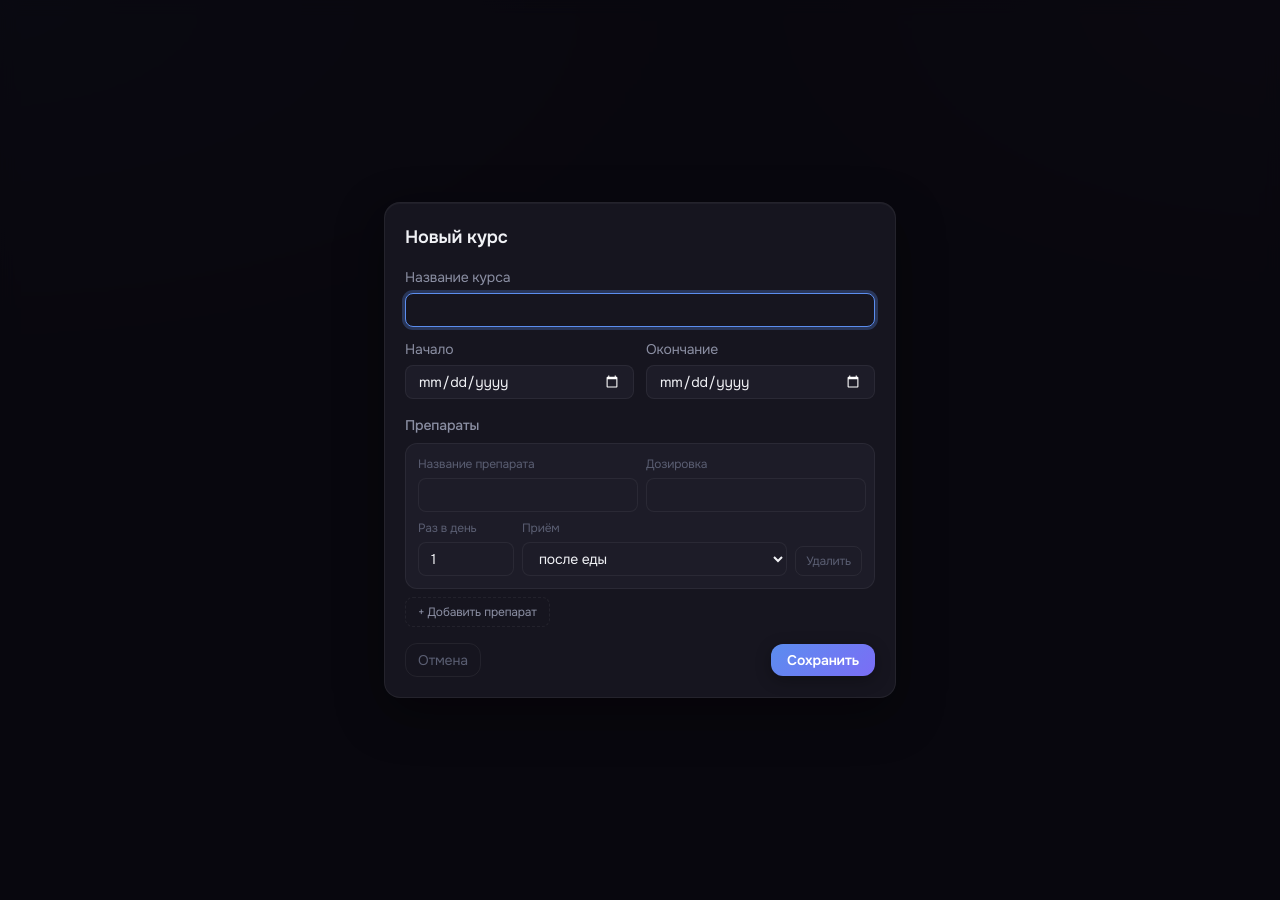
курс без препаратов отклоняется
This screenshot has width=1280, height=900.
Type "Курс" into the field labelled "Название курса" at (640, 310), box [405,293,875,327]
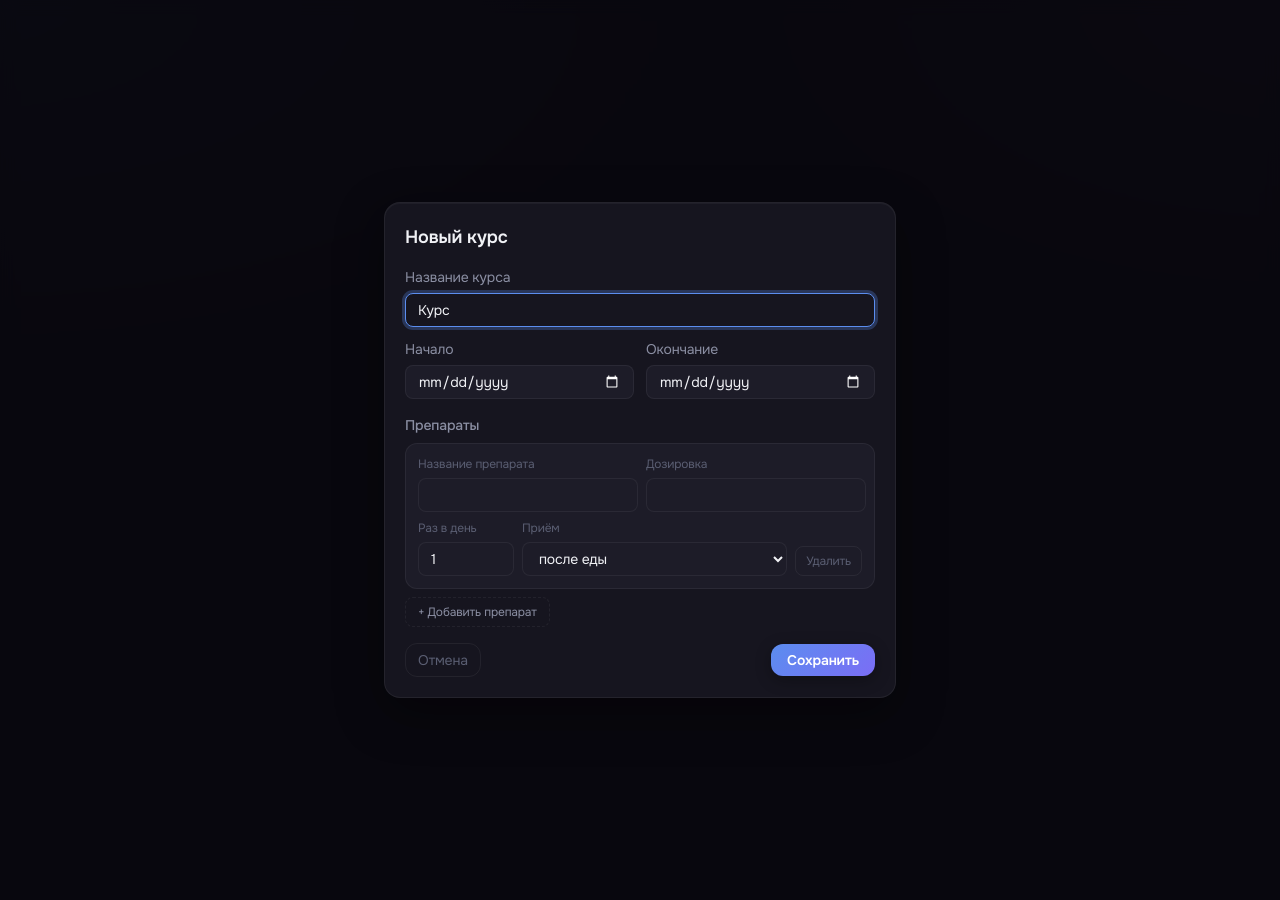
Type "2026-10-01" into the date field labelled "Начало" at (520, 382), box [405,365,634,399]
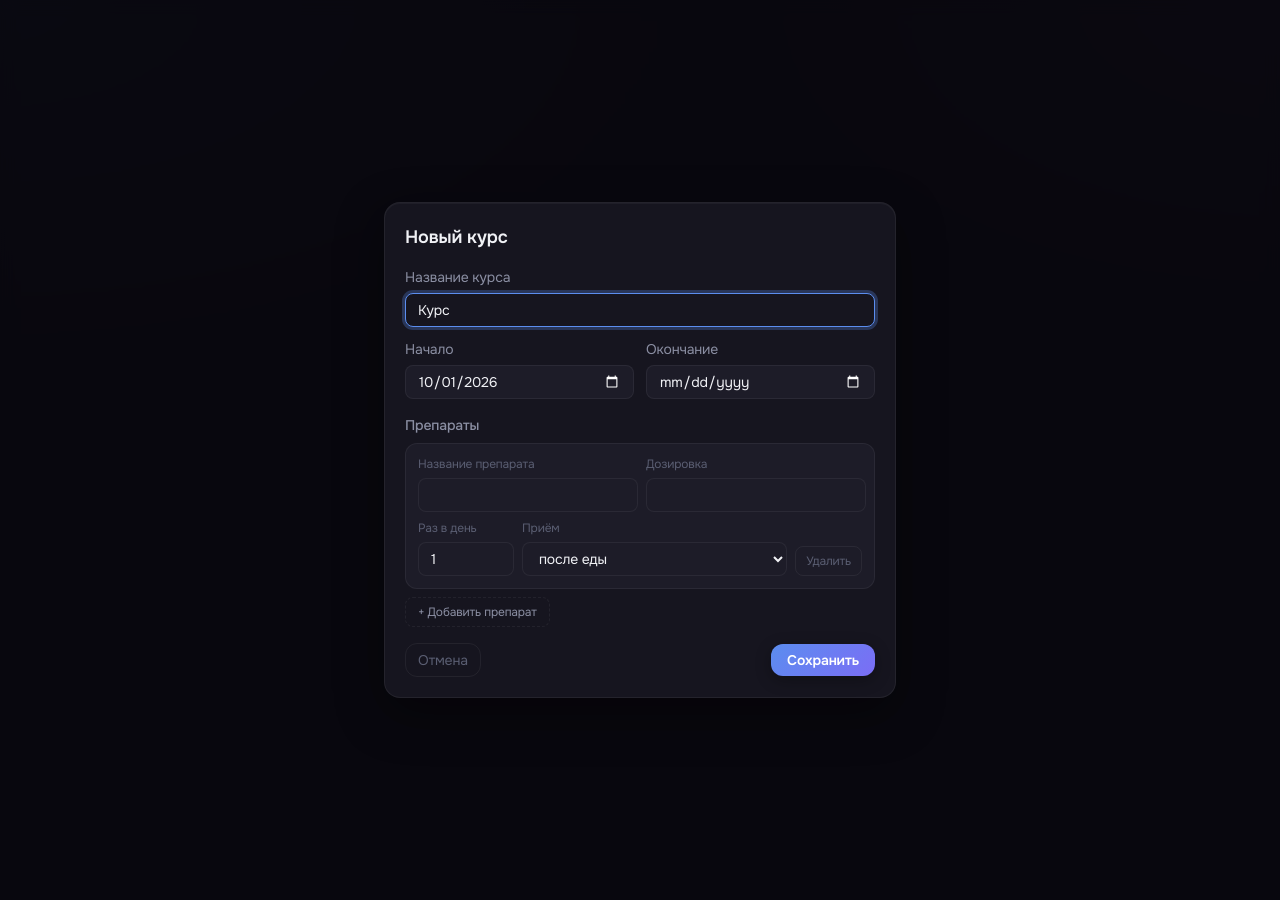
Type "2026-10-07" into the date field labelled "Окончание" at (760, 382), box [646,365,875,399]
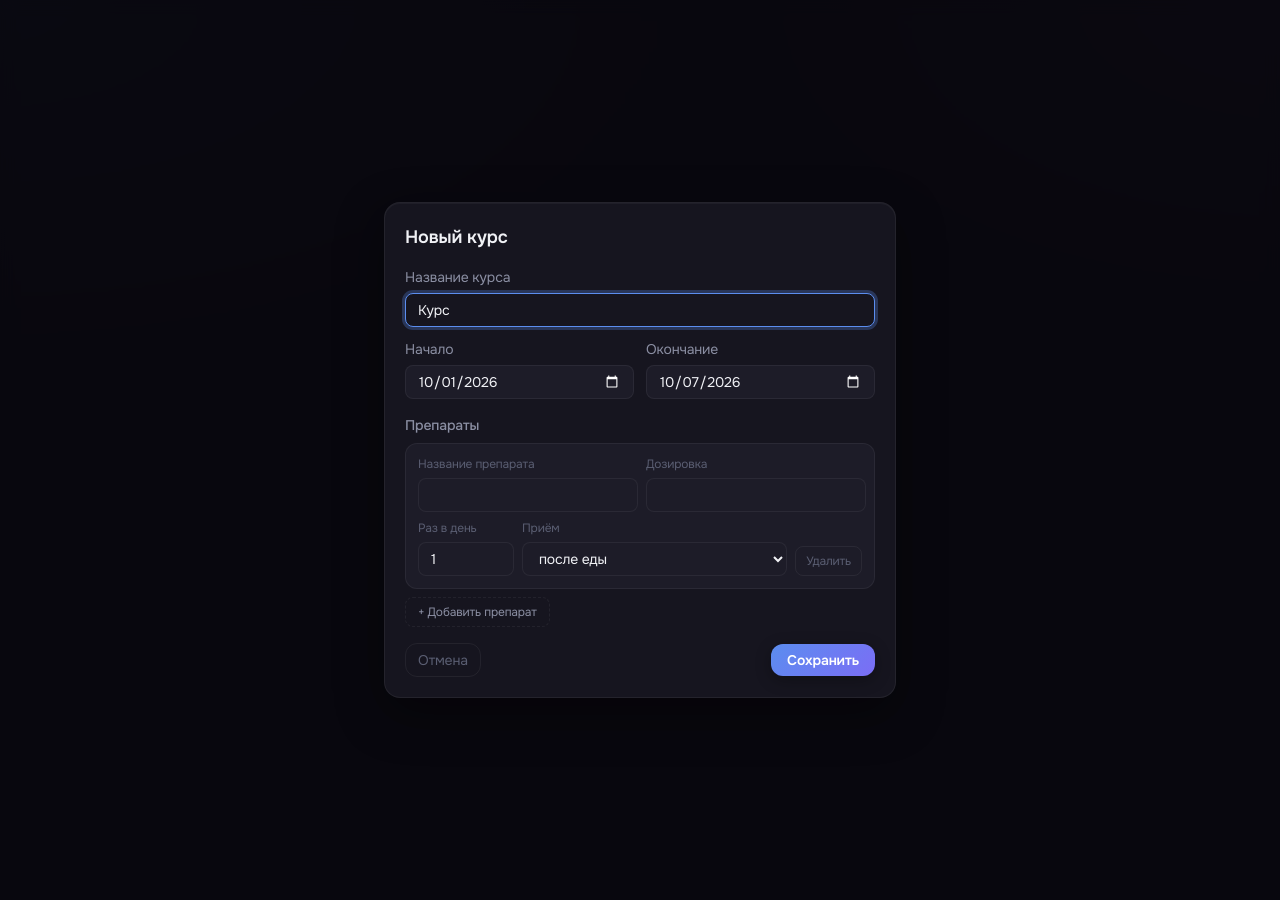
Click the button "Удалить" at (829, 561), box [795,546,862,576]
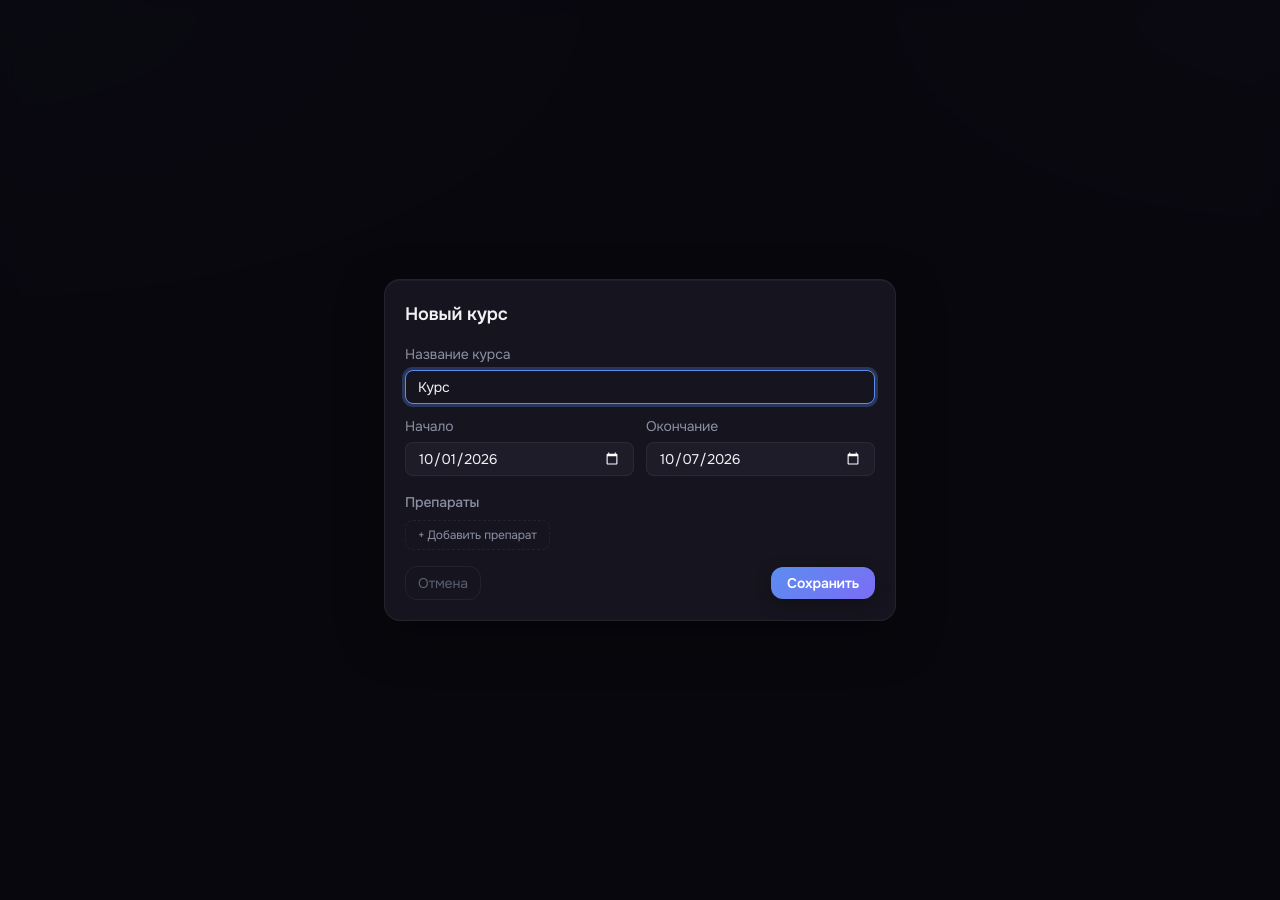
Click the button "Сохранить" at (823, 583), box [771,567,875,599]
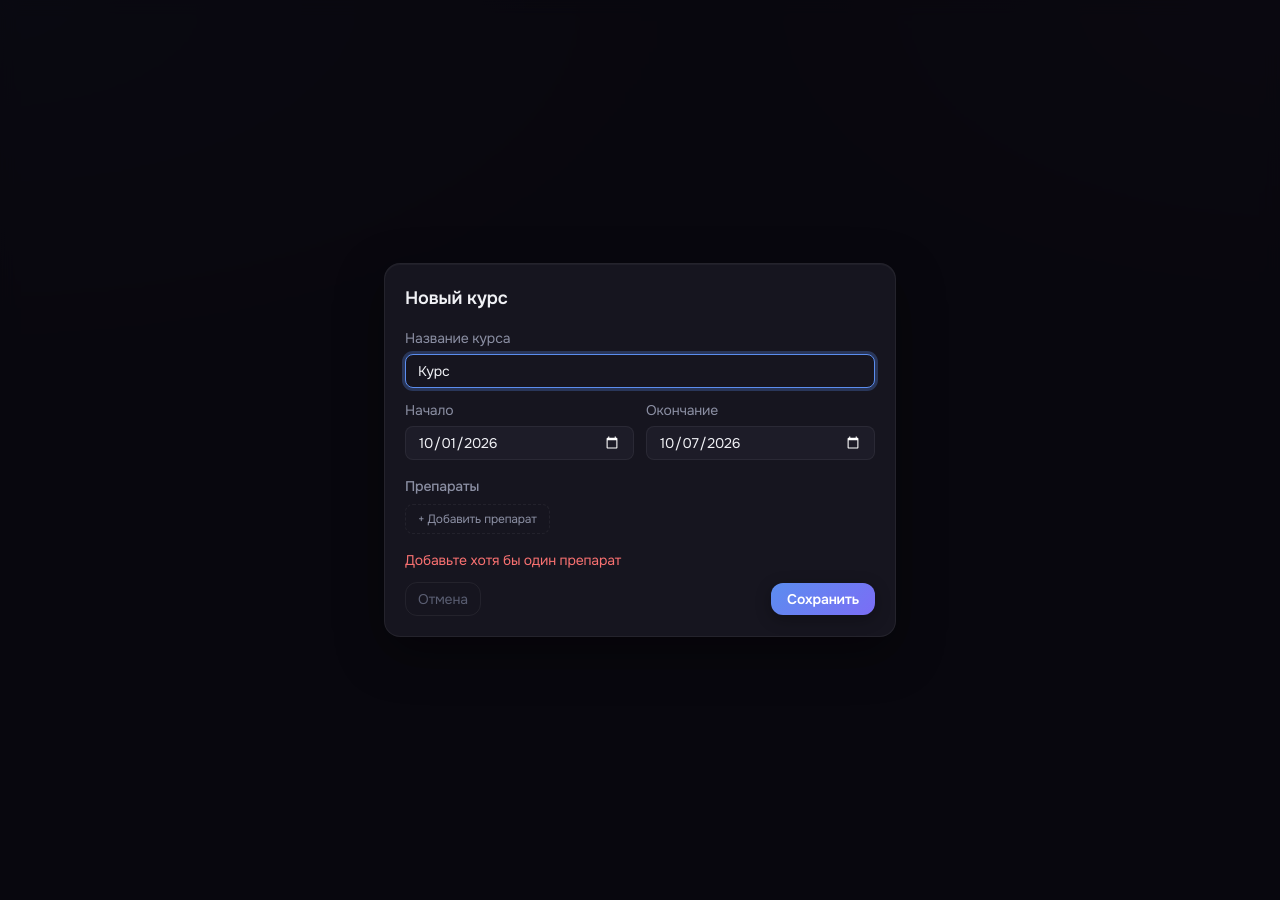
Now the text "Добавьте хотя бы один препарат" is shown, box [405,551,621,569]
